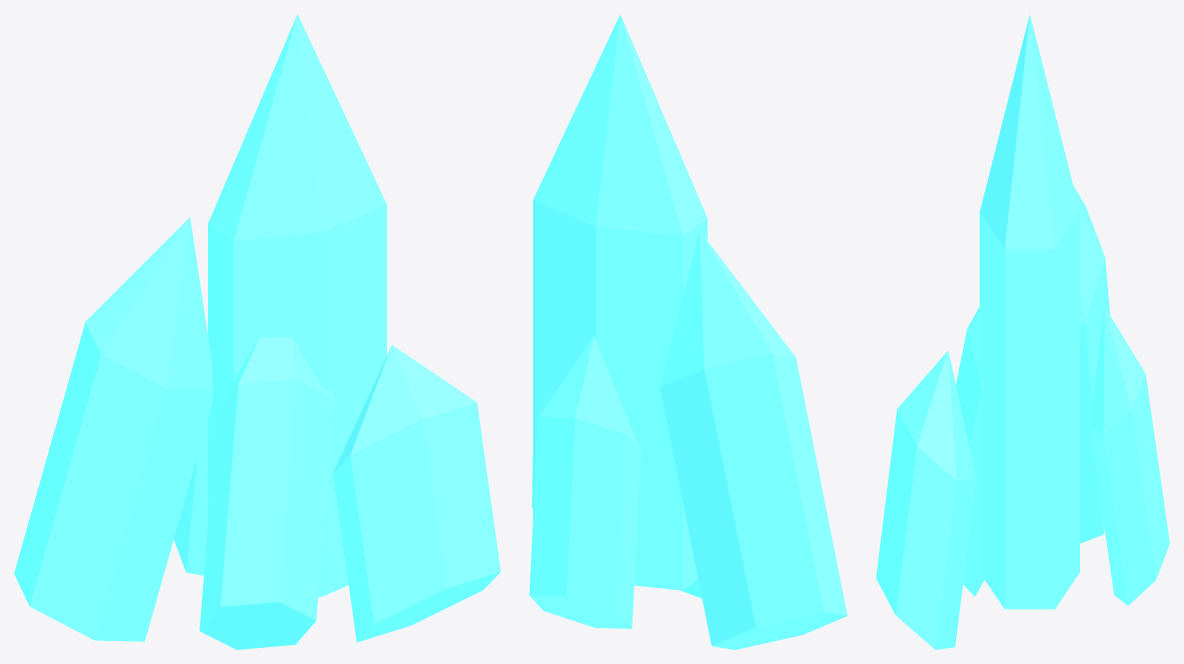
File: cryst6a.glb
3 views of the same model, side by side, from view 1: azimuth 30°, elevation 25°; view 2: azimuth 150°, elevation 25°; view 3: azimuth 270°, elevation 25° (orthographic). The views are drawn at different scales.
Visible parts, largest first — view 1: shard; view 2: shard; view 3: shard.
Part boxes in pixels (x1=…): shard: x1=14, y1=14, x2=500, y2=649; shard: x1=529, y1=14, x2=847, y2=649; shard: x1=876, y1=14, x2=1169, y2=649.
Size of the model in its own units: 5.9 by 8.8 by 3.9.
